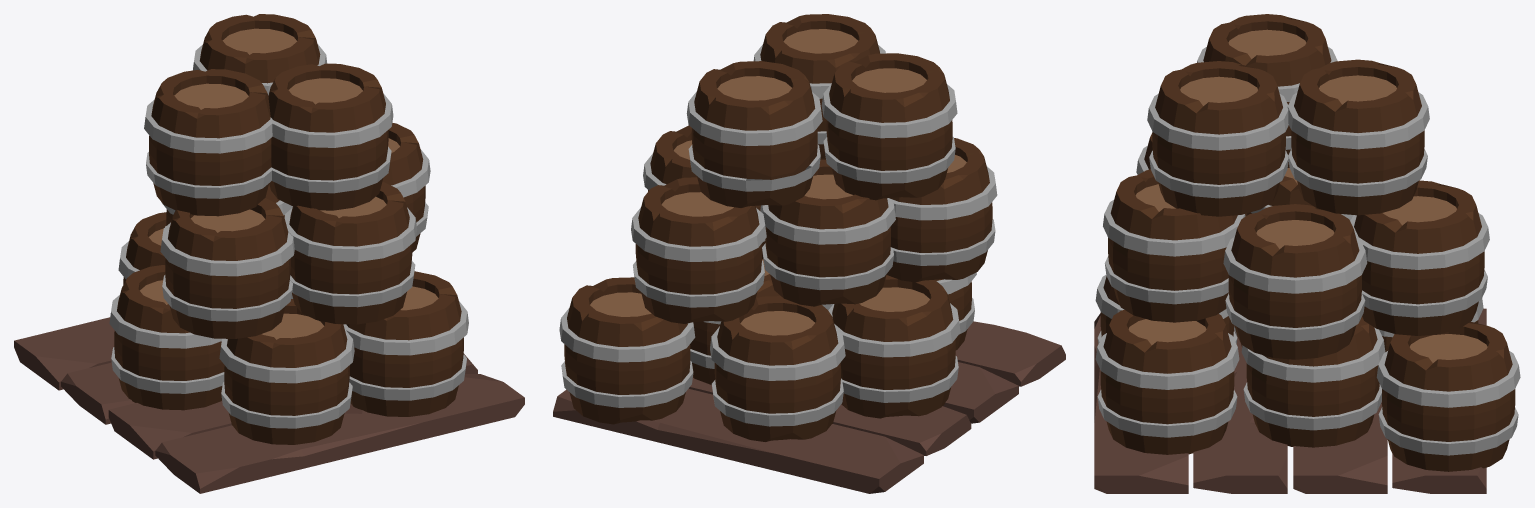
File: HighBarrelBoxes.fbx
3 renders of one model, left to right at view 1: azimuth 30°, elevation 25°; view 2: azimuth 150°, elevation 25°; view 3: azimuth 270°, elevation 25°, orthographic. The views are drawn at different scales.
Parts seen in each view (by area): view 1: Barrels, WoodenBox; view 2: Barrels, WoodenBox; view 3: Barrels, WoodenBox.
Part boxes in pixels (x1,y1,x2,y2): Barrels: (109, 14, 468, 444); WoodenBox: (14, 317, 524, 493); Barrels: (559, 14, 997, 441); WoodenBox: (553, 321, 1065, 493); Barrels: (1095, 14, 1520, 471); WoodenBox: (1094, 308, 1486, 493).
Bounding box in the file's own units: 205 × 192 × 219.
